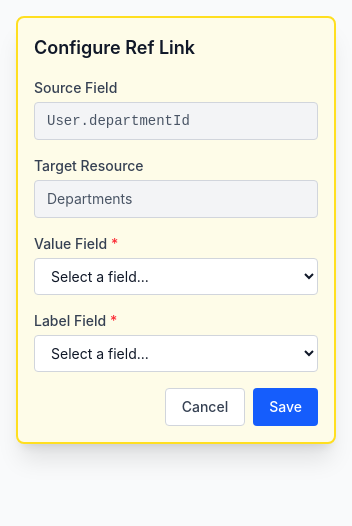
Scenario: RefLinkConfigForm › should display validation error when saving without selecting valueField
Click the button with test id "save-button".
click(286, 407)  # box [253,388,318,426]
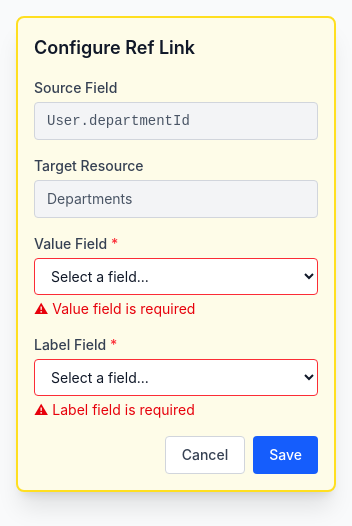
Expected: the message with test id "value-field-error" shows "Value field is required", [52,300,196,317]
